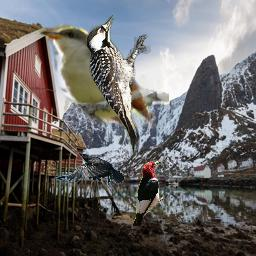Crow: (53, 152, 124, 186)
Cuckoo: (35, 17, 169, 128)
Woodpecker: (86, 15, 151, 156), (131, 159, 164, 226)
